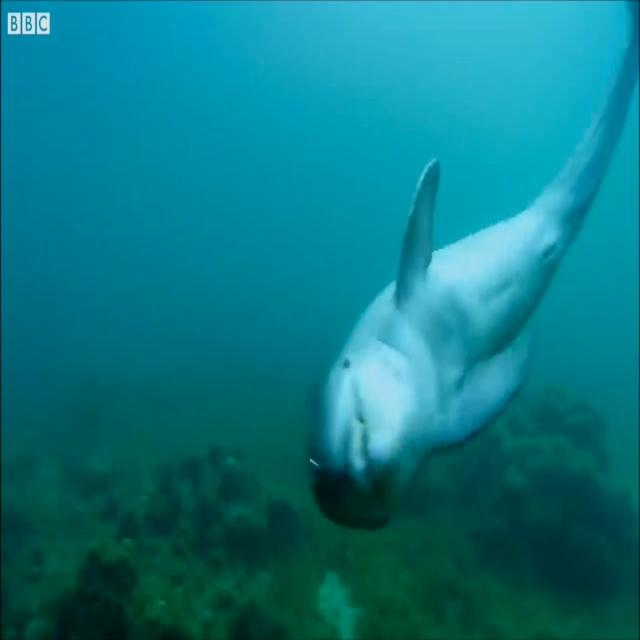Dolphin: (312, 25, 640, 530)
